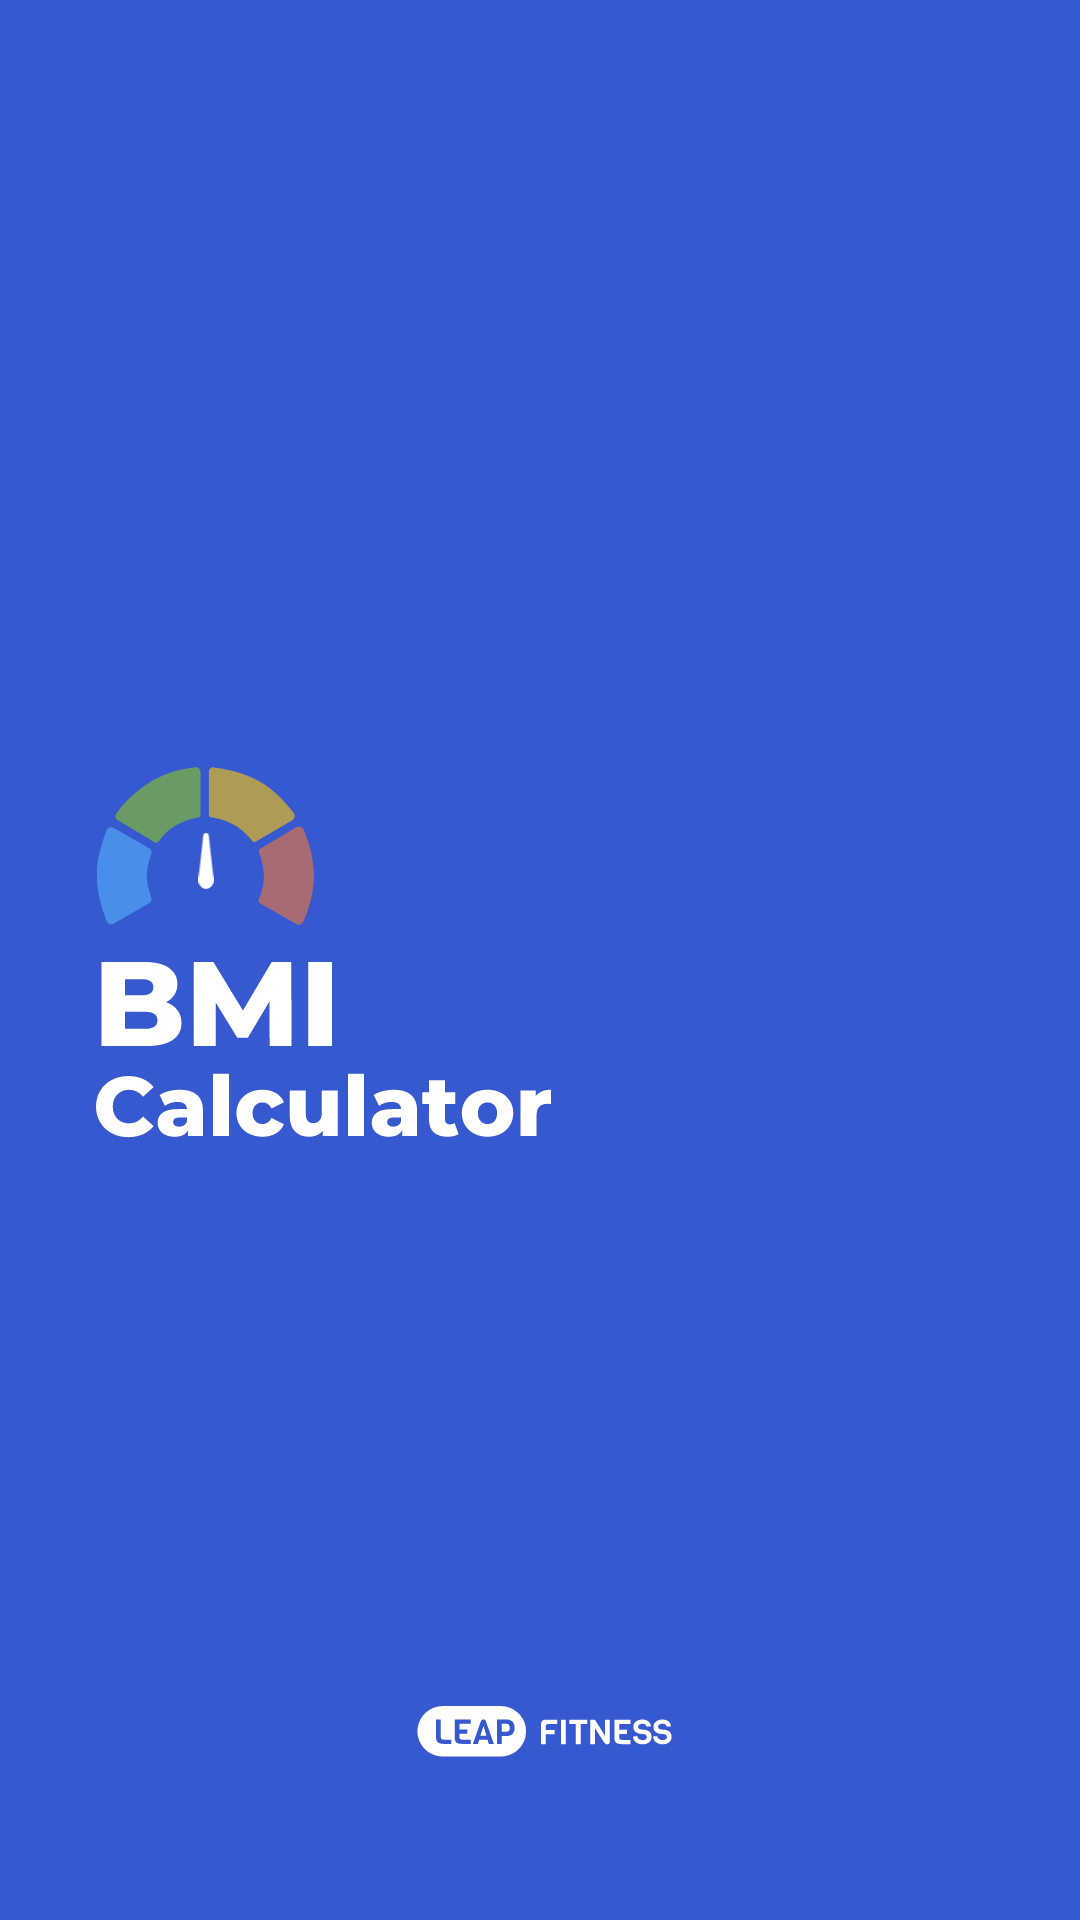

Screen size 1080px×1920px. Icon name, then its center in pixels as [x,y]:
bmi pointer: [206,861]
